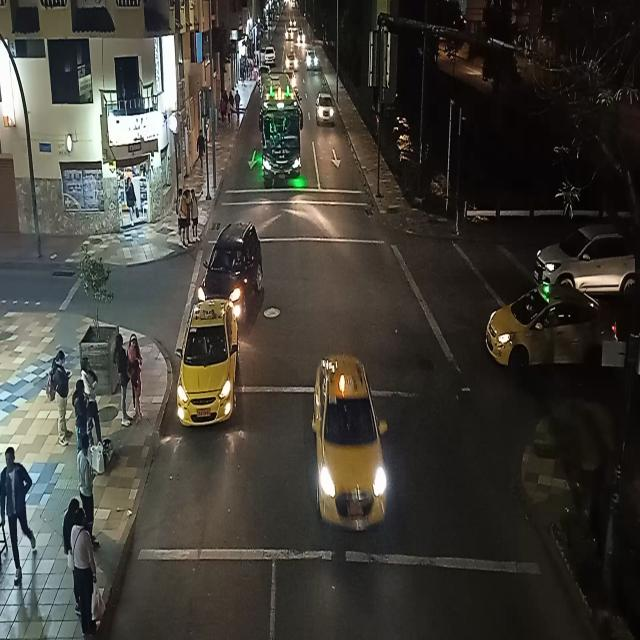BUS: (261, 86, 301, 180)
SED: (315, 358, 387, 528), (489, 292, 622, 369), (180, 294, 240, 426), (316, 94, 332, 124)
SUV: (535, 225, 635, 292), (200, 223, 259, 302), (266, 48, 276, 66)
